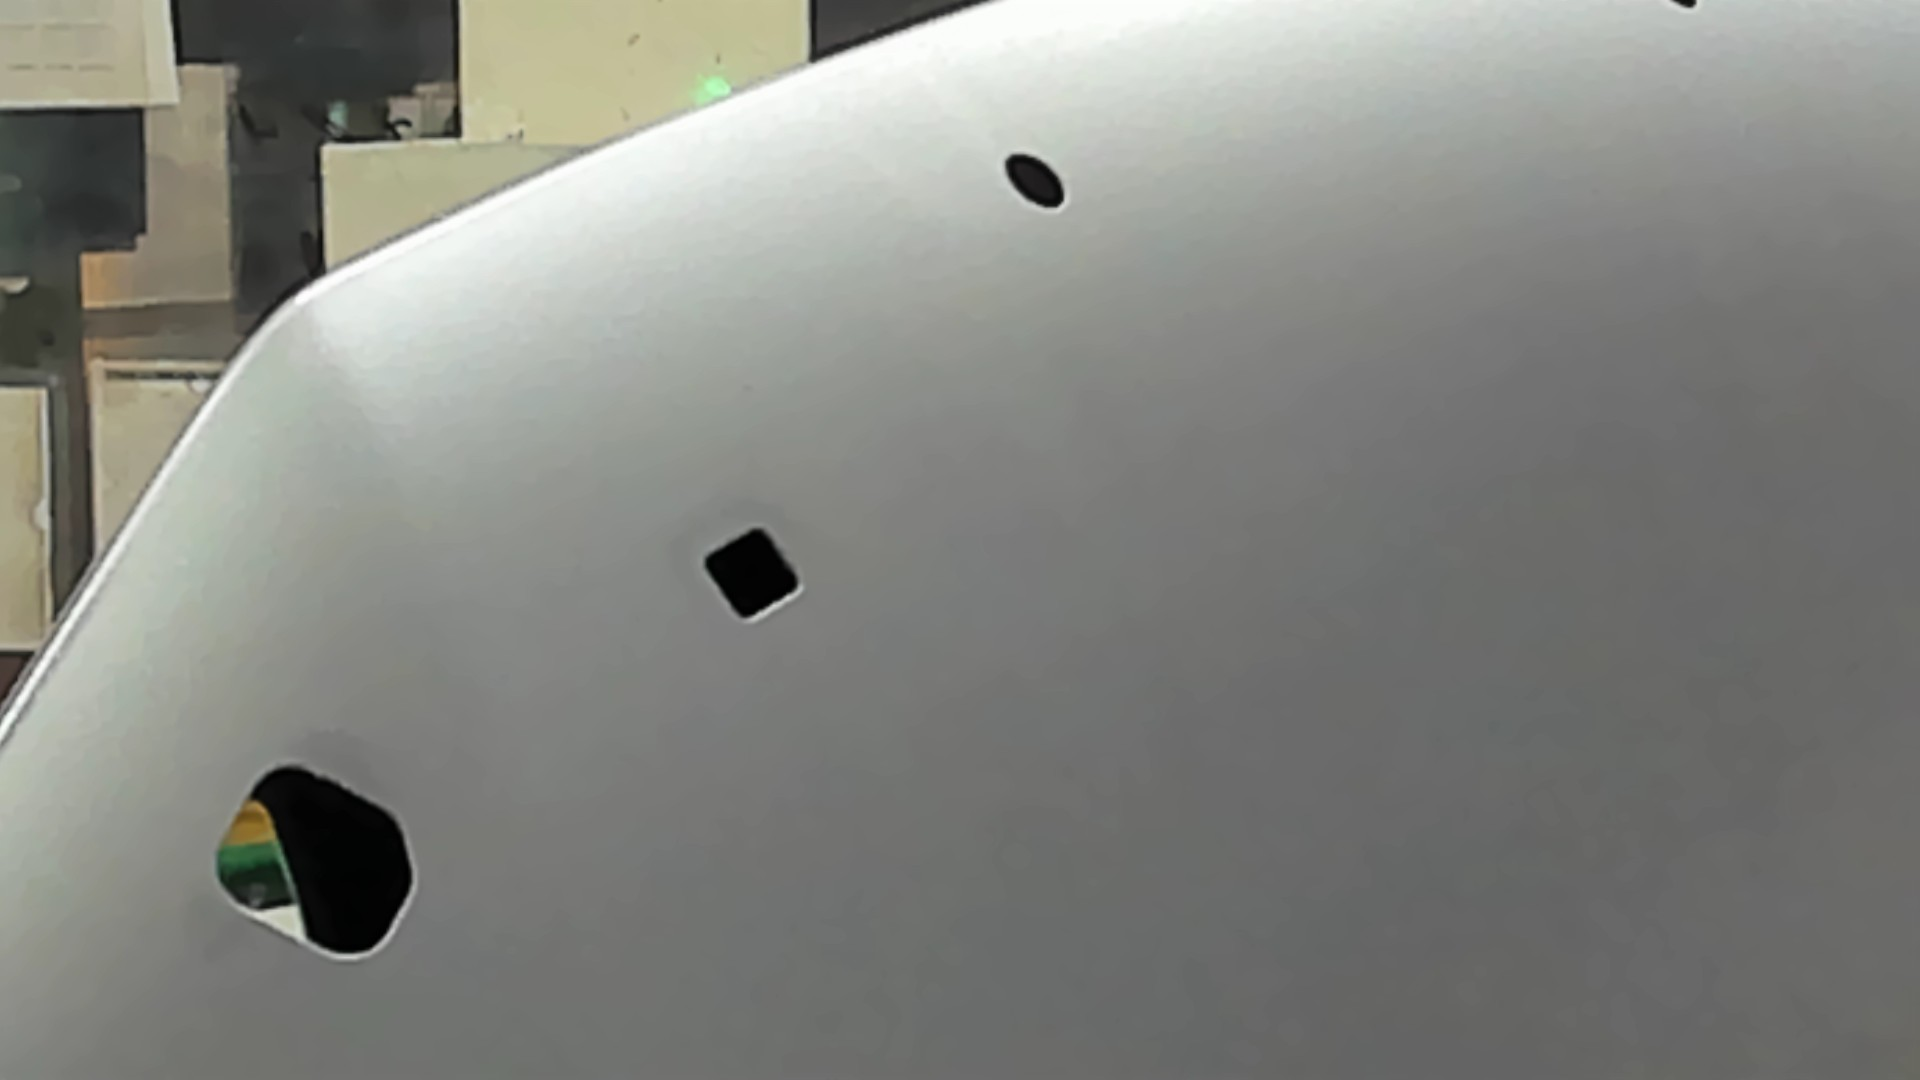chico: (992, 132, 1073, 222)
grande: (191, 746, 433, 978)
mediano: (674, 520, 811, 628)
